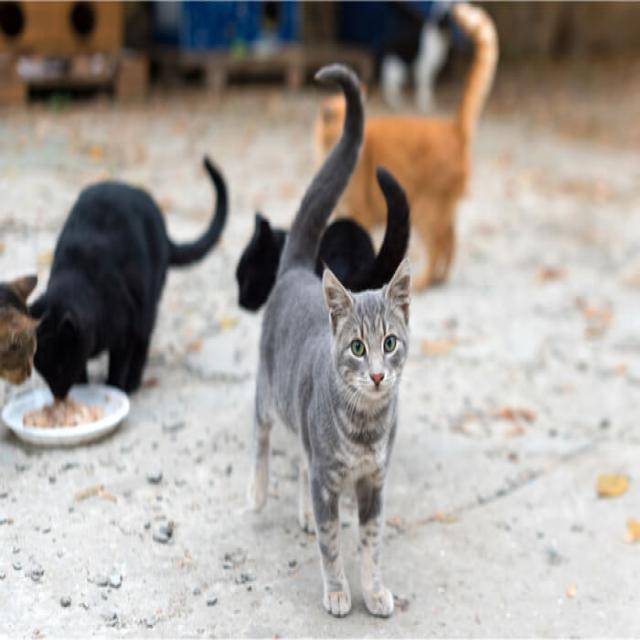cat: (249, 66, 410, 616), (30, 157, 228, 397), (338, 4, 498, 289), (236, 214, 286, 310), (0, 275, 40, 383), (315, 97, 342, 152)
